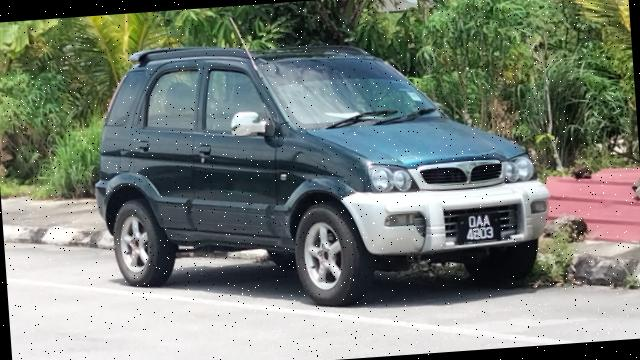License_Plate: (455, 211, 502, 247)
car: (81, 16, 561, 328)
